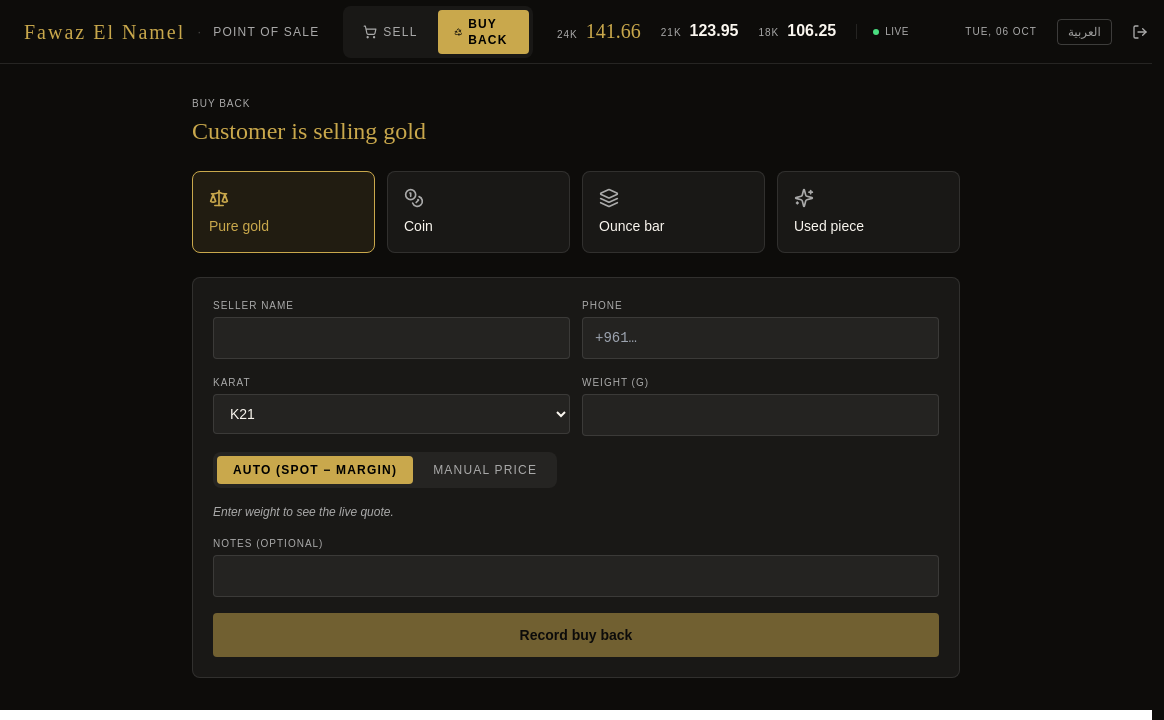
it: POS buyback — language switcher (NEX-64) › sits in the header where the sell page has it — before Sign out — and switches the page
Click the button "العربية": [1084, 32] box [1057,18,1112,44]
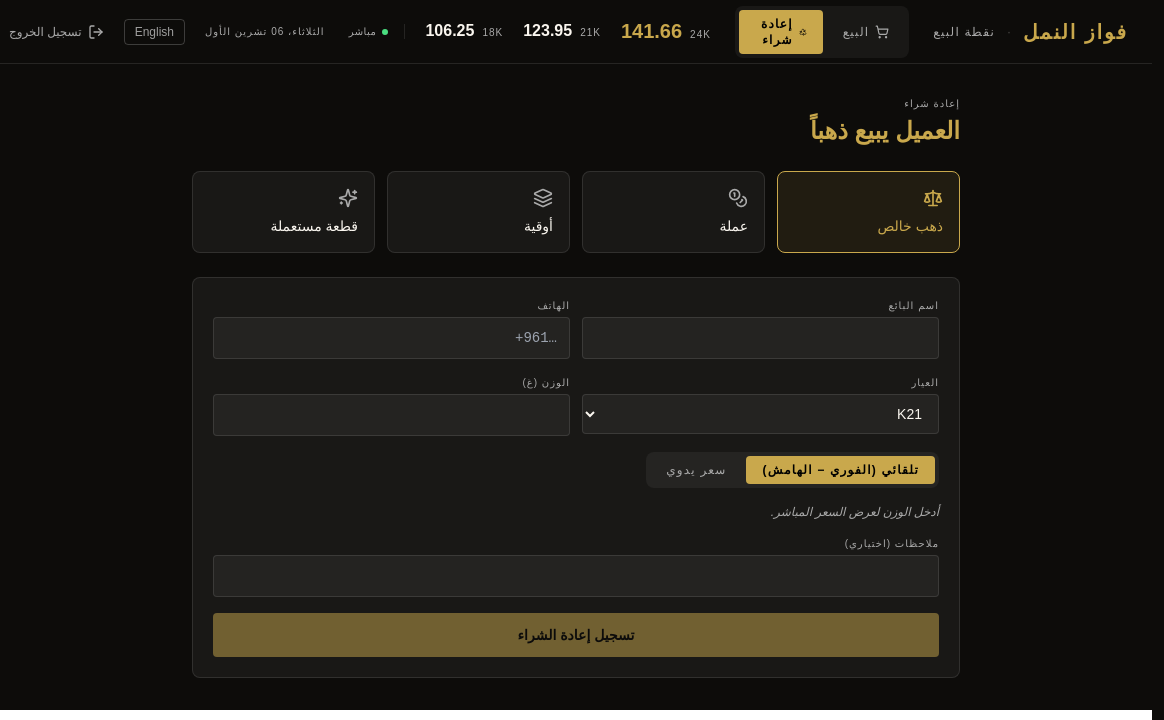
Now the heading "العميل يبيع ذهباً" is shown, box [810,117,960,144]
Now the button "English" is shown, box [124,18,185,44]
